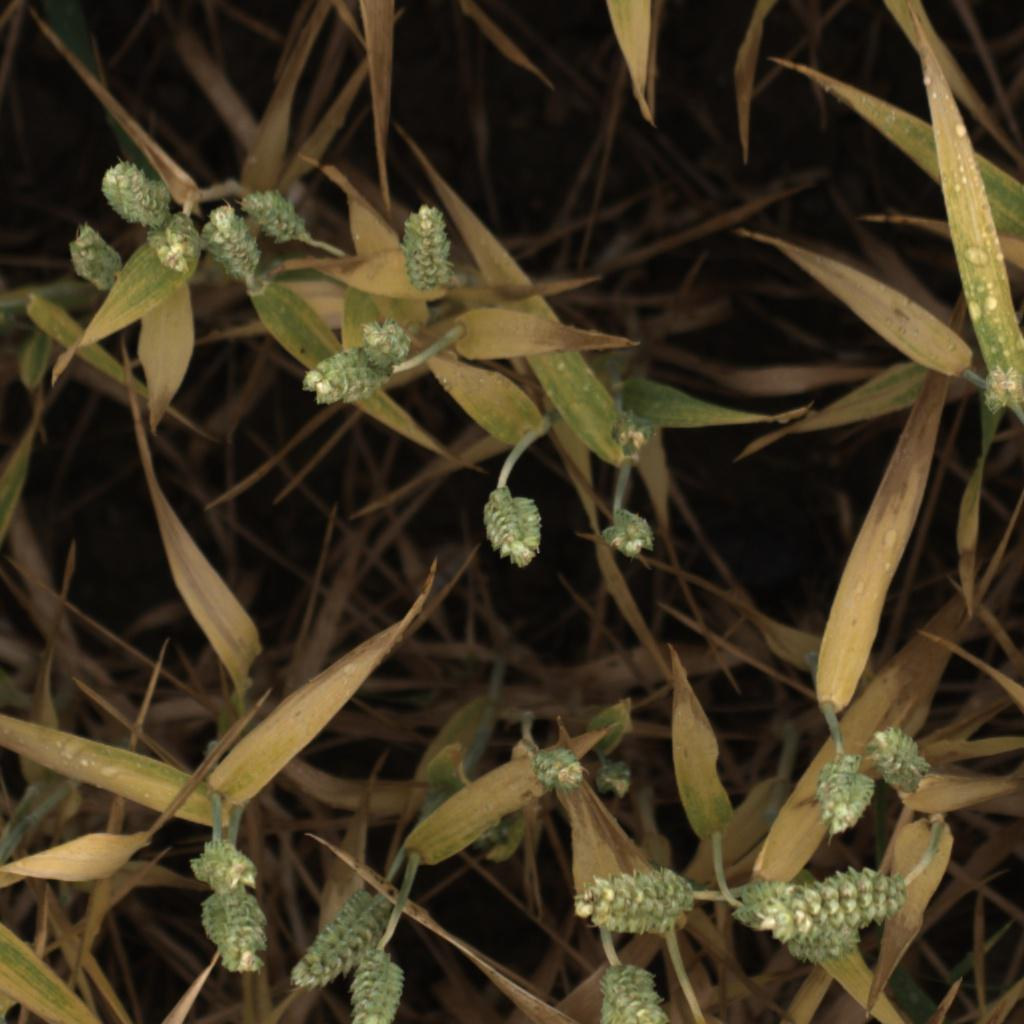0-0: (728, 854, 908, 938), (284, 874, 395, 992), (569, 856, 699, 939), (755, 888, 861, 959), (196, 890, 273, 974), (392, 200, 463, 291), (298, 337, 377, 416), (478, 485, 548, 573), (805, 754, 876, 839), (865, 718, 937, 800), (95, 154, 168, 228), (591, 964, 675, 1024), (199, 198, 263, 275), (187, 832, 266, 891), (593, 500, 663, 565), (62, 221, 123, 294), (347, 954, 409, 1024), (236, 184, 305, 244), (143, 212, 204, 279), (356, 308, 420, 371), (594, 747, 642, 813), (530, 745, 588, 799), (975, 357, 1024, 415)
